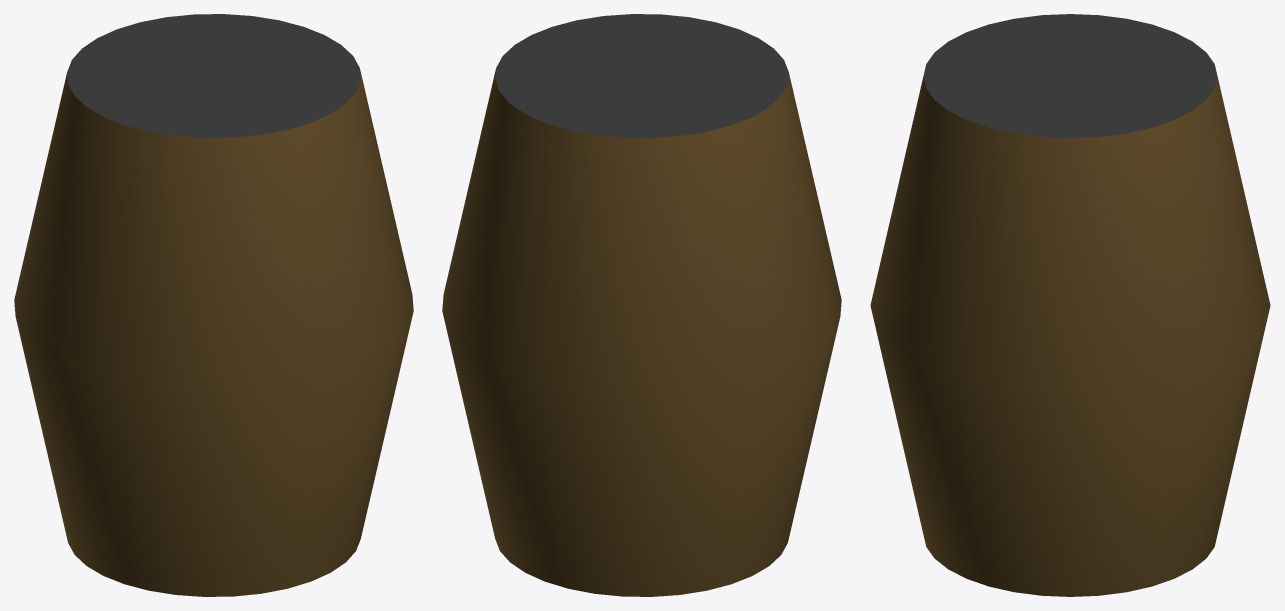
The model's file is Barrel.fbx.
3 views of the same model, side by side, from view 1: azimuth 30°, elevation 25°; view 2: azimuth 150°, elevation 25°; view 3: azimuth 270°, elevation 25° (orthographic).
Visible parts, largest first — view 1: Cylinder; view 2: Cylinder; view 3: Cylinder.
Boxes of the visible parts, left/top/right/bottom form: Cylinder: left=14, top=14, right=413, bottom=596; Cylinder: left=442, top=14, right=841, bottom=596; Cylinder: left=870, top=14, right=1270, bottom=596.
Size of the model in its own units: 158 by 200 by 158.
